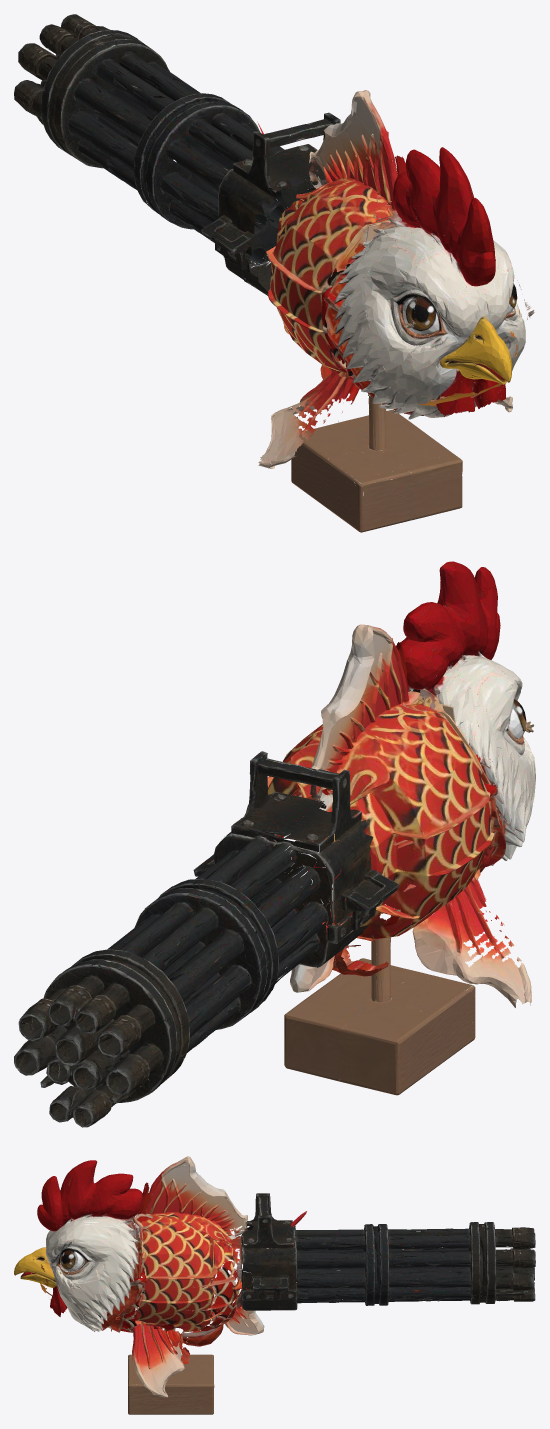
File: gatling_out.glb
3 views of the same model, one above another, from view 1: azimuth 30°, elevation 25°; view 2: azimuth 150°, elevation 25°; view 3: azimuth 270°, elevation 25° (orthographic). The views are drawn at different scales.
Parts seen in each view (by area): view 1: edited_tail, edited_head, tripo_node_38ad0bef-af21-4ec7-ae87-128b33711ff6; view 2: edited_tail, tripo_node_38ad0bef-af21-4ec7-ae87-128b33711ff6, edited_head; view 3: edited_tail, tripo_node_38ad0bef-af21-4ec7-ae87-128b33711ff6, edited_head.
Part boxes in pixels (bbox=[...]): edited_tail: bbox=[14, 14, 411, 393]; edited_head: bbox=[320, 147, 525, 421]; tripo_node_38ad0bef-af21-4ec7-ae87-128b33711ff6: bbox=[257, 90, 534, 532]; edited_tail: bbox=[14, 751, 399, 1127]; tripo_node_38ad0bef-af21-4ec7-ae87-128b33711ff6: bbox=[267, 624, 531, 1095]; edited_head: bbox=[277, 561, 535, 939]; edited_tail: bbox=[164, 1193, 535, 1364]; tripo_node_38ad0bef-af21-4ec7-ae87-128b33711ff6: bbox=[31, 1156, 306, 1414]; edited_head: bbox=[14, 1160, 216, 1354].
Bounding box in the file's own units: 0.4496 × 0.6576 × 1.28.
3 materials, 3 textured.
